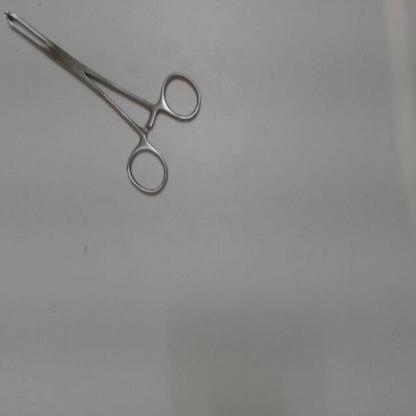Allis Tissue Forceps: (1, 5, 208, 205)
